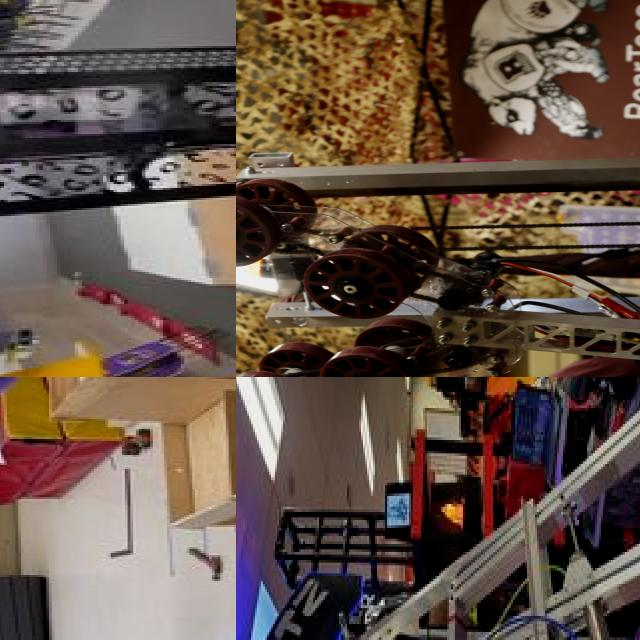FRC-Robots: (236, 145, 640, 377), (0, 0, 236, 377), (316, 377, 640, 640)
